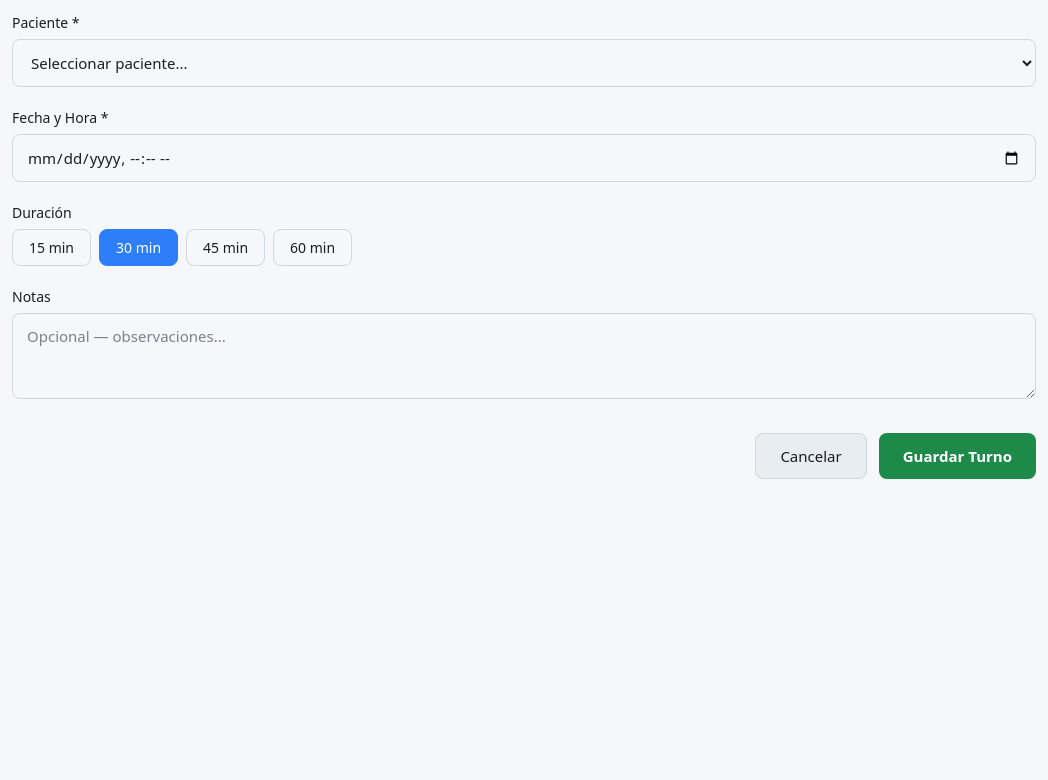
Test: TurnoForm › shows validation error when fecha_hora is missing
The image size is (1048, 780).
Select paciente but no fecha_hora
Select "Garcia" in the dropdown labelled "Paciente *": (524, 63) [12,39,1036,87]
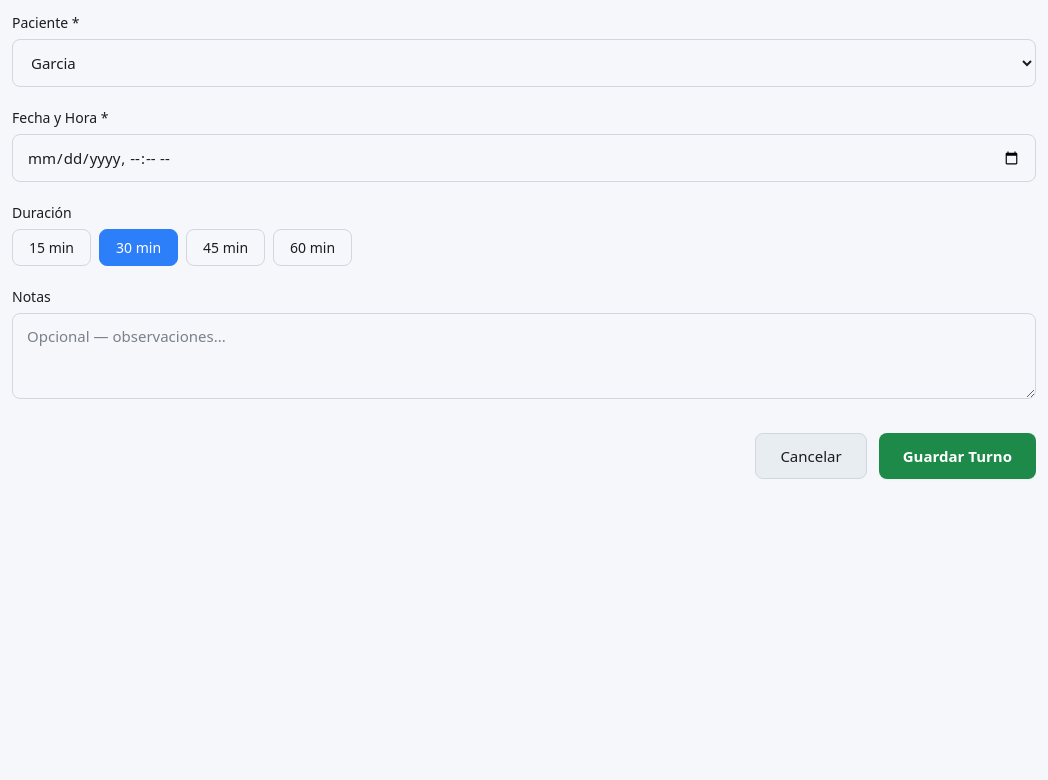
Click the button "Guardar Turno": (957, 456) [879,433,1036,479]
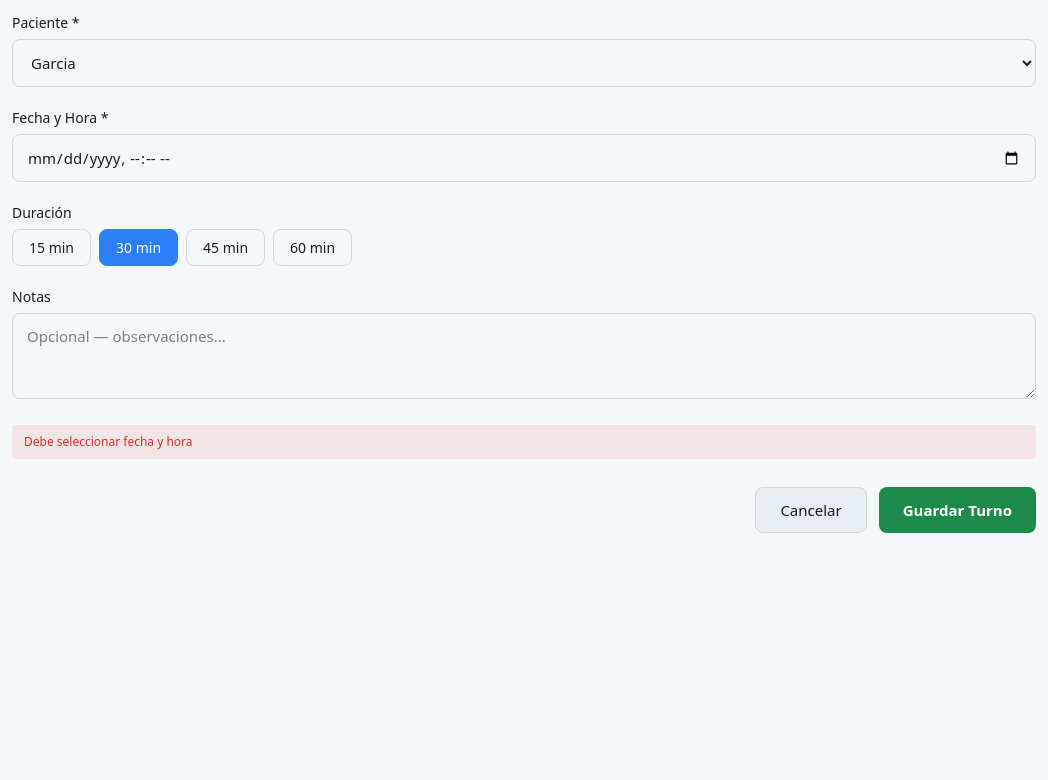
Check: the text "Debe seleccionar fecha y hora" is shown, box [12,425,1036,459]
